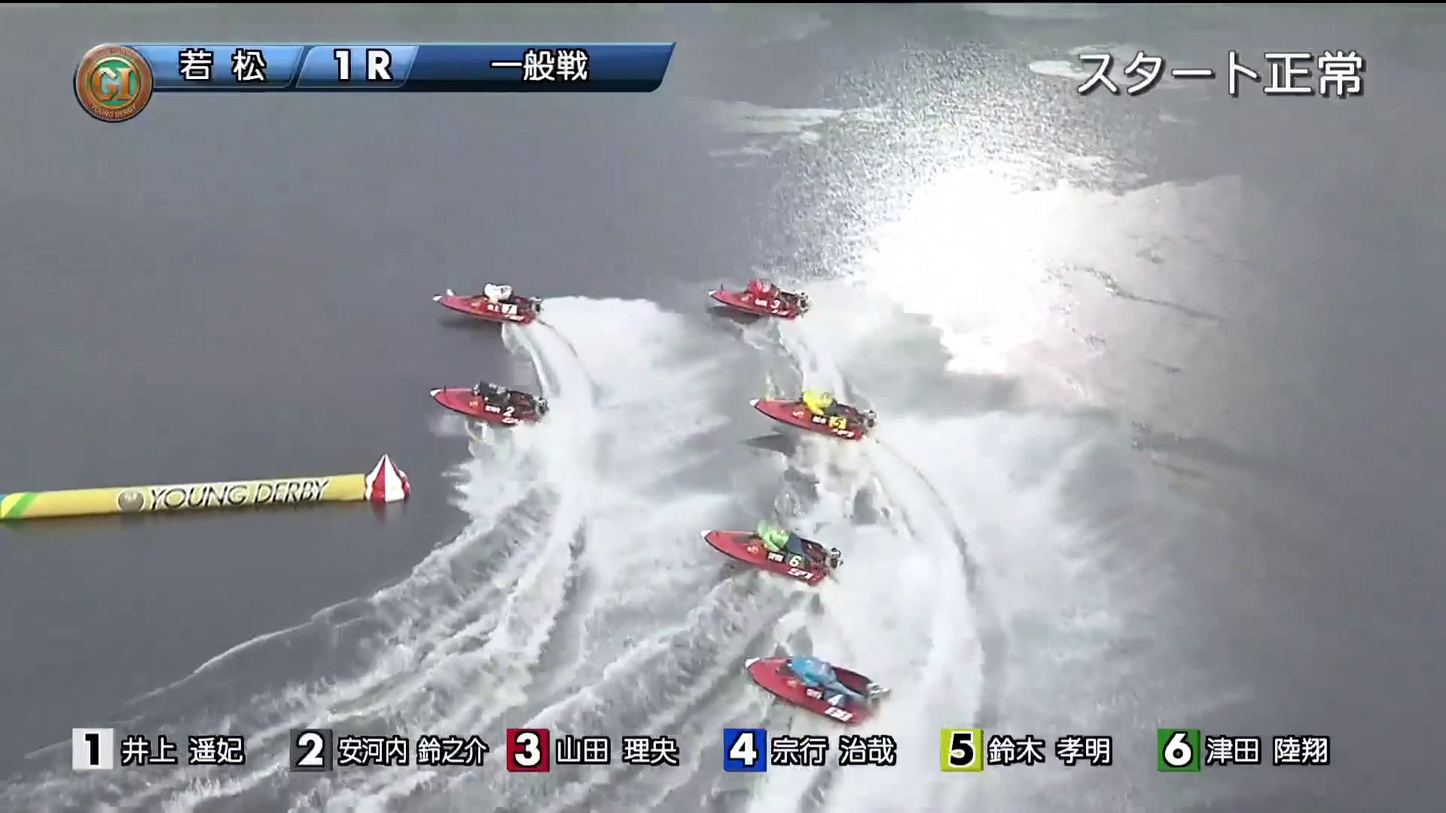１号艇: (463, 289, 534, 342)
２号艇: (428, 371, 557, 431)
３号艇: (708, 279, 805, 325)
４号艇: (715, 521, 849, 587)
５号艇: (756, 659, 880, 714)
６号艇: (754, 362, 854, 443)
